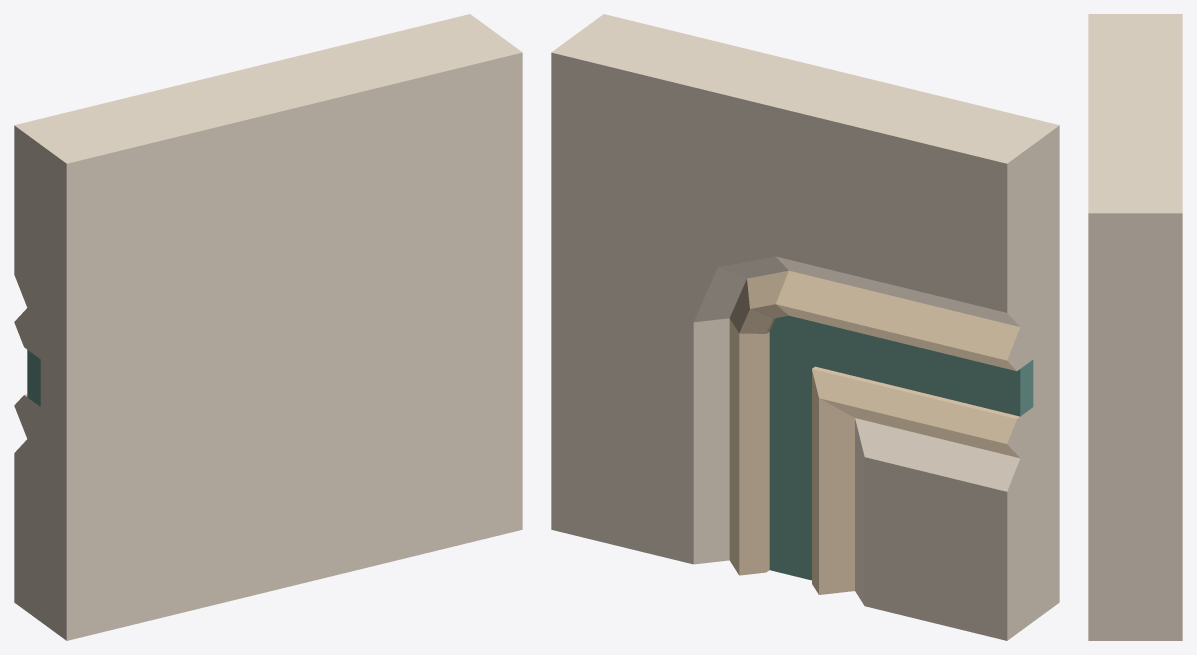
Rendered from Puzzle_Wall_Conduit_Path_Corner.glb.
3 views of the same model, side by side, from view 1: azimuth 30°, elevation 25°; view 2: azimuth 150°, elevation 25°; view 3: azimuth 270°, elevation 25° (orthographic). The views are drawn at different scales.
Visible parts, largest first — view 1: Puzzle_Wall_Conduit_Path_Corner; view 2: Puzzle_Wall_Conduit_Path_Corner; view 3: Puzzle_Wall_Conduit_Path_Corner.
Boxes of the visible parts, x1,y1,x2,y2 form: Puzzle_Wall_Conduit_Path_Corner: [14, 14, 522, 640]; Puzzle_Wall_Conduit_Path_Corner: [551, 14, 1059, 640]; Puzzle_Wall_Conduit_Path_Corner: [1088, 14, 1182, 640].
Size of the model in its own units: 1 by 1 by 0.2.
